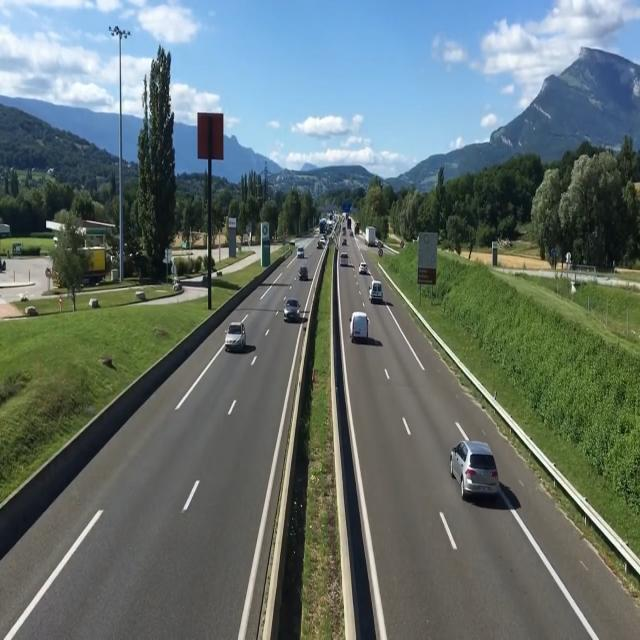car: (450, 438, 506, 507), (222, 317, 251, 357), (352, 308, 374, 348), (284, 291, 304, 325), (365, 222, 382, 250), (369, 282, 385, 308), (294, 242, 306, 264), (298, 263, 309, 284), (339, 250, 350, 270), (358, 260, 370, 277)
